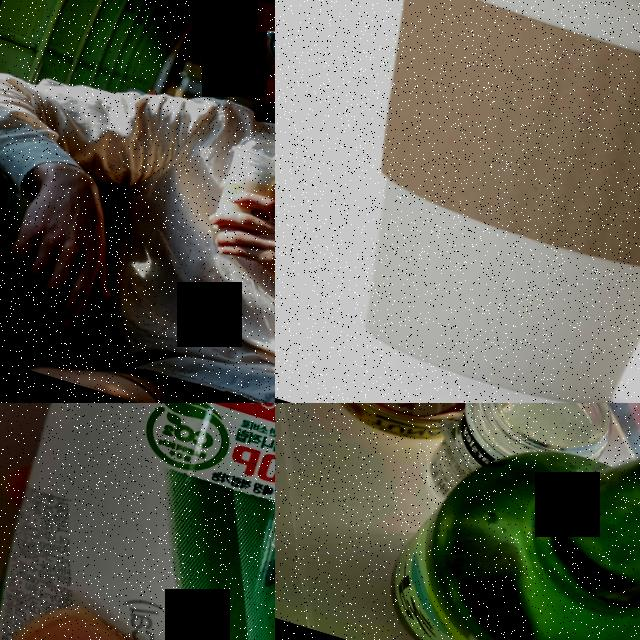can: (0, 403, 275, 640)
cup: (282, 0, 640, 403), (204, 120, 275, 257)
